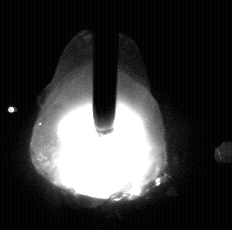arame: (93, 0, 118, 134)
poca: (29, 0, 166, 230)
